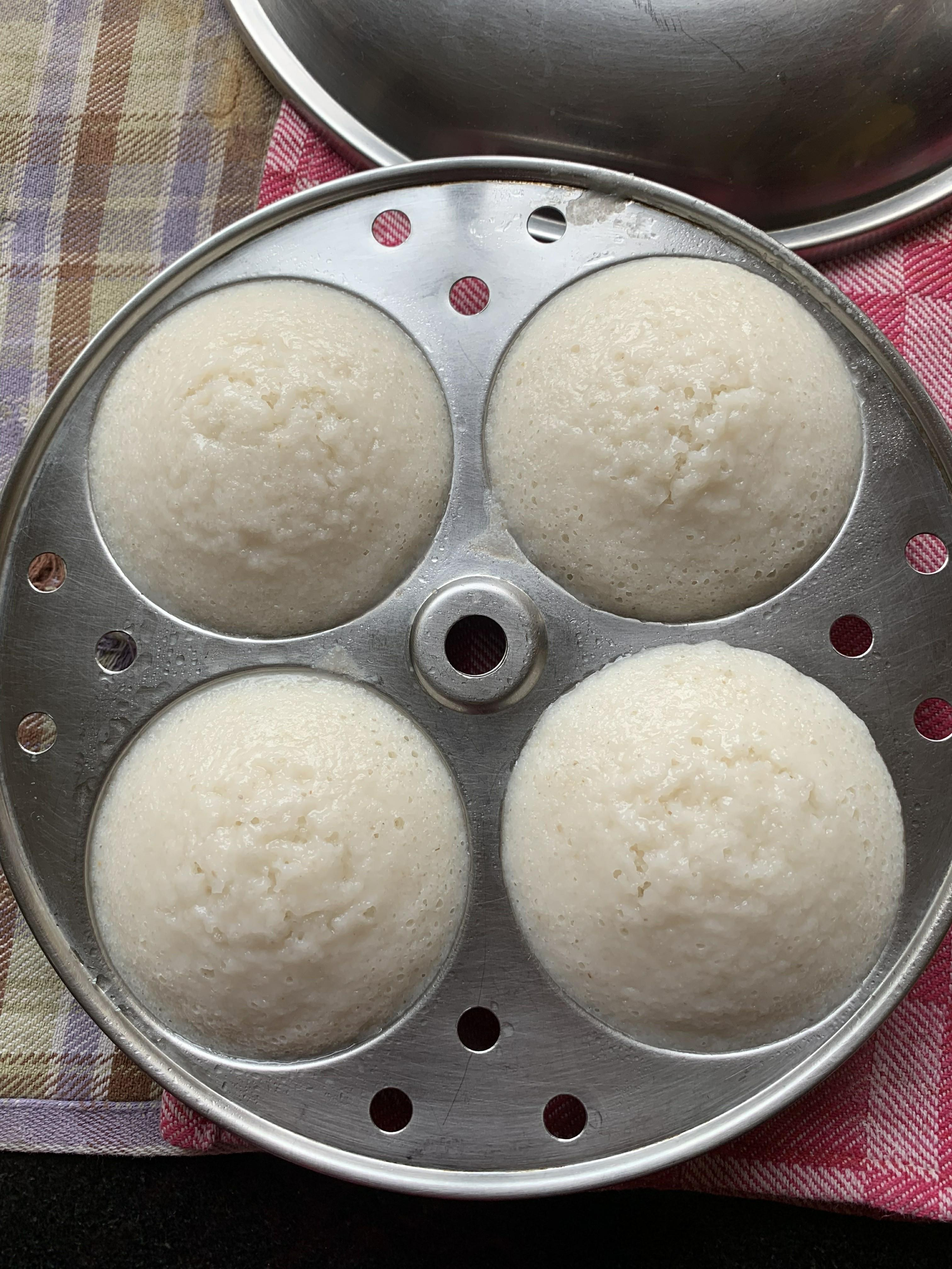Idli: (511, 644, 908, 1045), (92, 672, 470, 1057), (482, 252, 873, 616), (89, 271, 450, 634)
